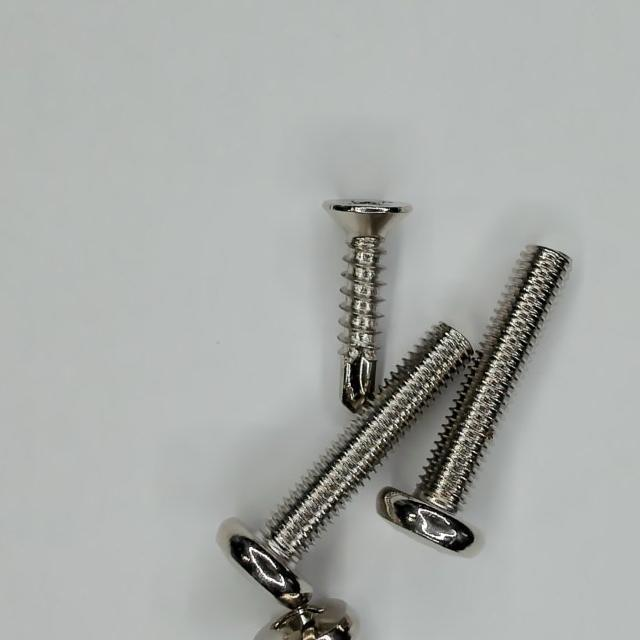Dry Waste: (191, 191, 601, 640)
